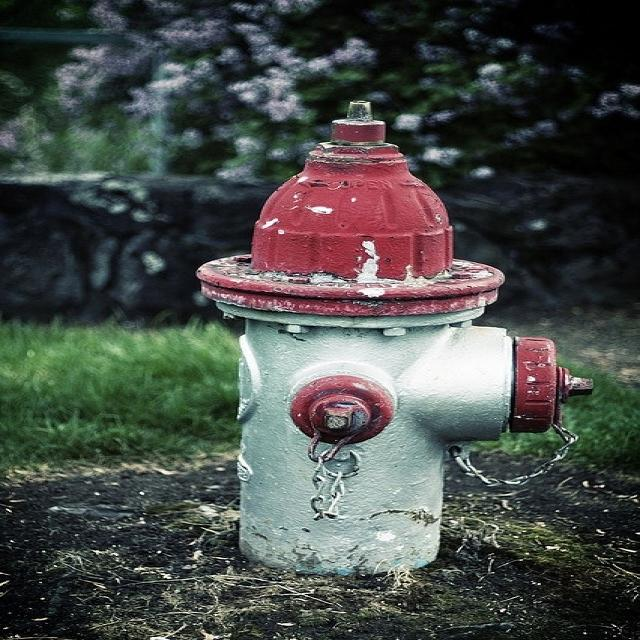fire_hydrant: (219, 104, 517, 566)
